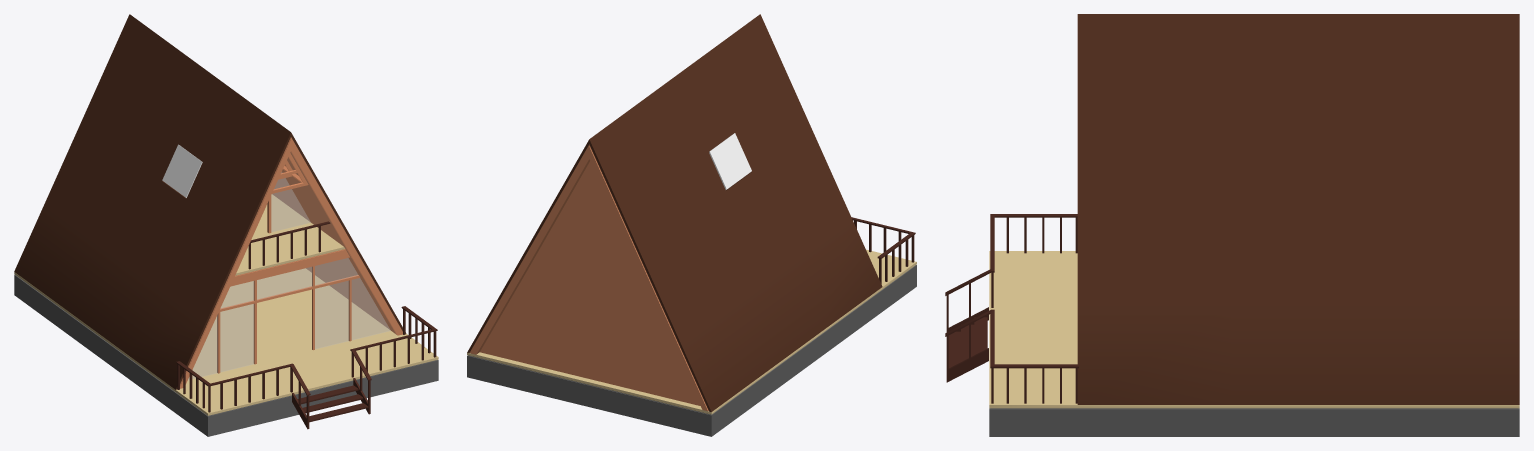
File: cabin.glb
3 renders of one model, left to right at view 1: azimuth 30°, elevation 25°; view 2: azimuth 150°, elevation 25°; view 3: azimuth 270°, elevation 25°, orthographic. The views are drawn at different scales.
Visible parts, largest first — view 1: woodencabin, CTRL_Hole; view 2: woodencabin, CTRL_Hole; view 3: woodencabin.
Part boxes in pixels (box(x1,y1,x2,y2)): woodencabin: box(14, 14, 438, 436); CTRL_Hole: box(162, 144, 202, 197); woodencabin: box(467, 14, 916, 436); CTRL_Hole: box(709, 133, 751, 189); woodencabin: box(945, 14, 1519, 436).
Size of the model in its own units: 8.25 by 8.69 by 12.99.
